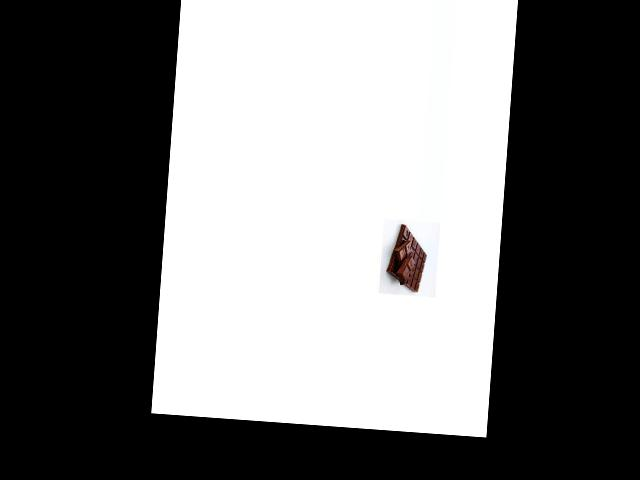chocolate: (382, 222, 432, 293)
